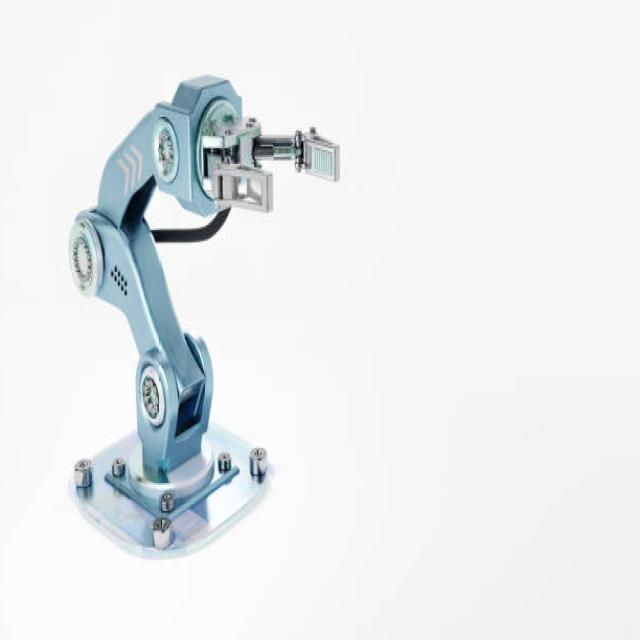Robotic-arm: (49, 63, 345, 566)
